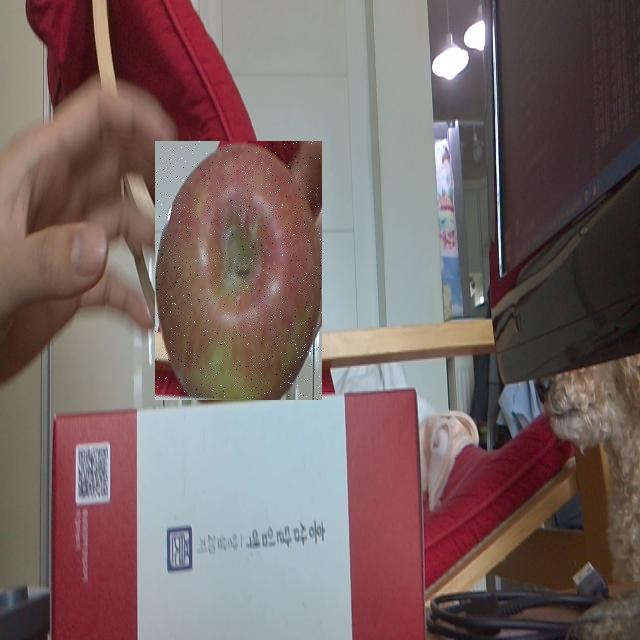apple: (155, 141, 322, 400)
